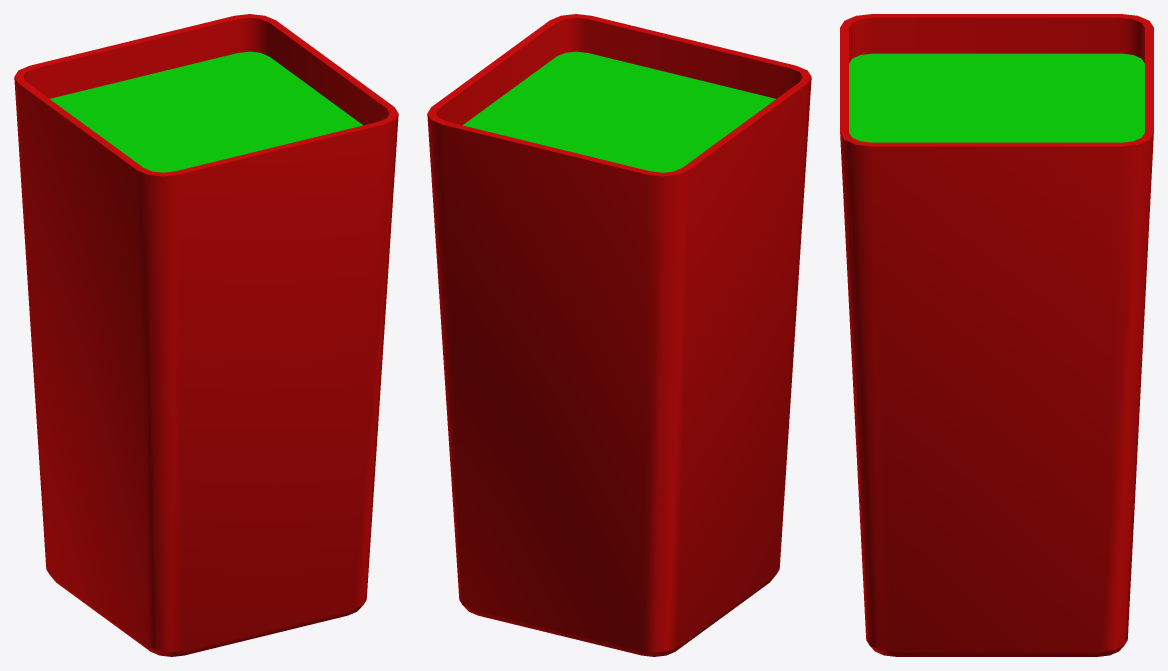
Rendered from PlantPot1.fbx.
The picture shows the model from 3 angles, left to right: view 1: azimuth 30°, elevation 25°; view 2: azimuth 150°, elevation 25°; view 3: azimuth 270°, elevation 25°; orthographic projection. The views are drawn at different scales.
Parts seen in each view (by area): view 1: PlantPot1; view 2: PlantPot1; view 3: PlantPot1.
Boxes of the visible parts, box(x1,y1,x2,y2) form: PlantPot1: box(14, 14, 398, 656); PlantPot1: box(427, 14, 811, 656); PlantPot1: box(840, 14, 1153, 656).
Bounding box in the file's own units: 32.87 × 60.53 × 32.87.
